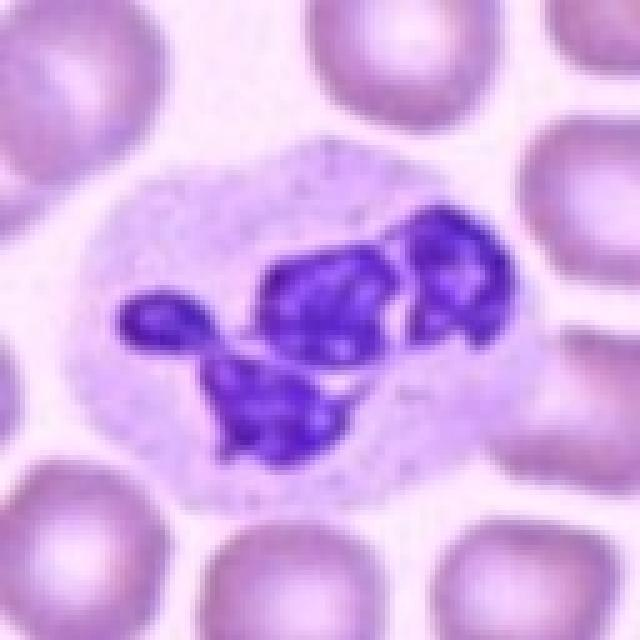neutro: (32, 129, 560, 497)
